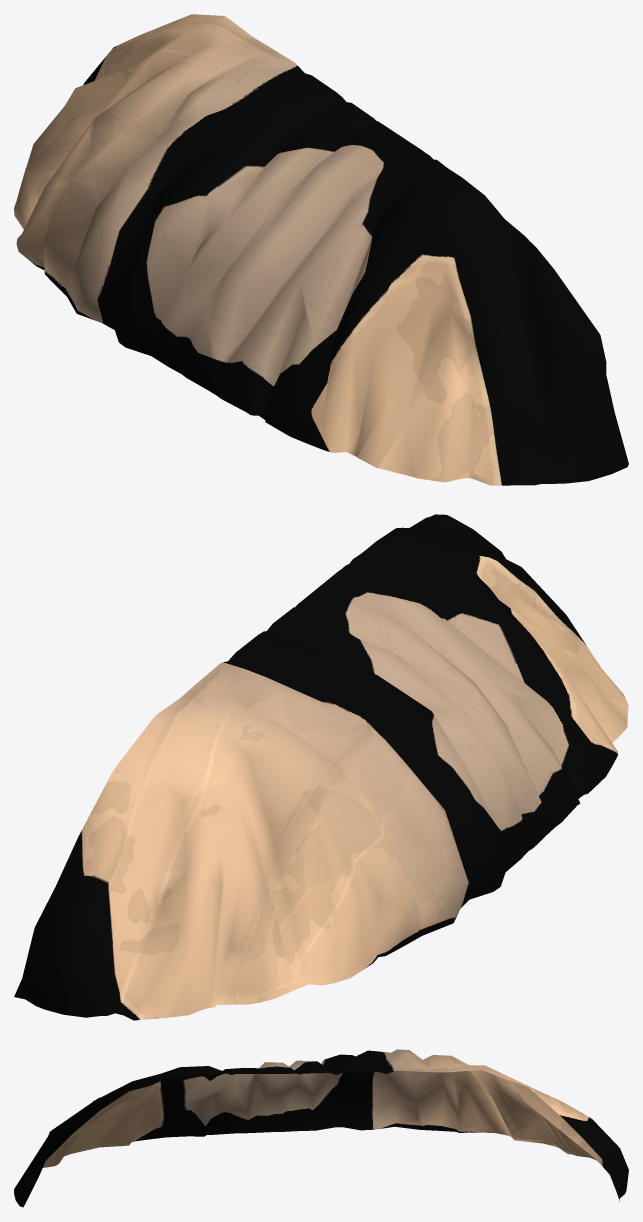
File: Slope_5.fbx
3 views of the same model, one above another, from view 1: azimuth 30°, elevation 25°; view 2: azimuth 150°, elevation 25°; view 3: azimuth 270°, elevation 25° (orthographic). The views are drawn at different scales.
Parts seen in each view (by area): view 1: Slope_5_LOD0; view 2: Slope_5_LOD0; view 3: Slope_5_LOD0.
Boxes of the visible parts, left/top/right/bottom form: Slope_5_LOD0: left=14, top=14, right=628, bottom=485; Slope_5_LOD0: left=14, top=514, right=628, bottom=1020; Slope_5_LOD0: left=14, top=1049, right=628, bottom=1207.
Size of what is drawn, in the model's own units: 126 by 90.01 by 402.
